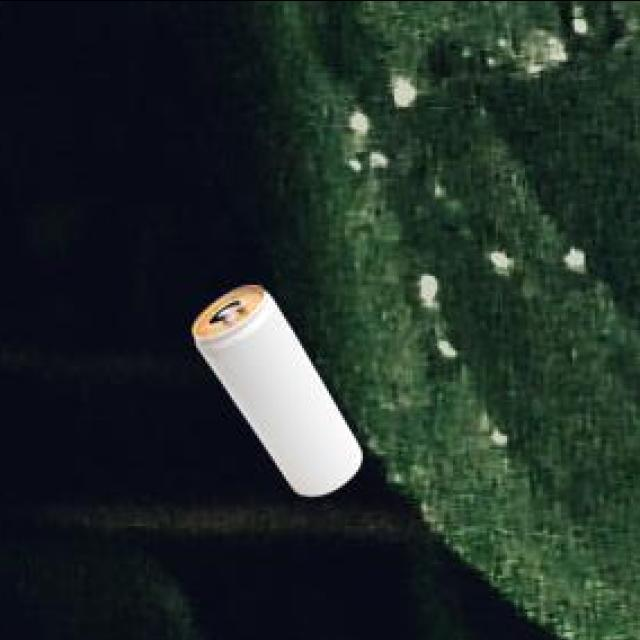logam: (190, 281, 359, 492)
